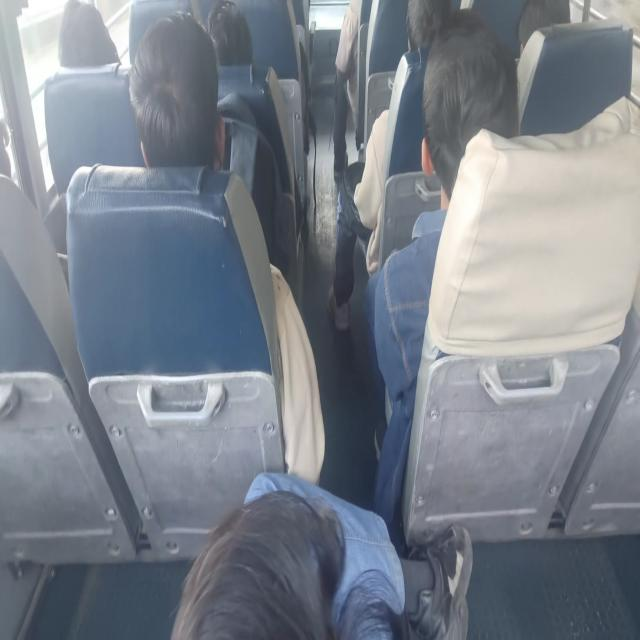person: (180, 482, 397, 640), (128, 18, 226, 203), (418, 30, 502, 184), (54, 0, 115, 82), (394, 0, 459, 68), (202, 0, 262, 71), (516, 0, 576, 49), (0, 89, 23, 182)
